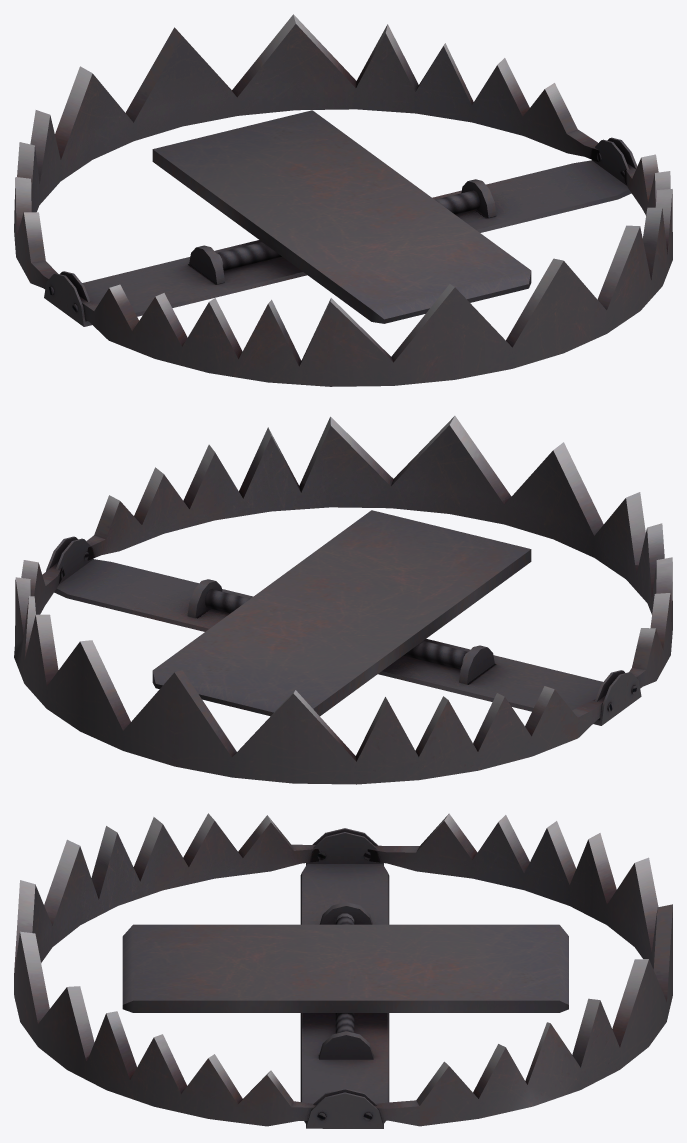
3 renders of one model, top to bottom at view 1: azimuth 30°, elevation 25°; view 2: azimuth 150°, elevation 25°; view 3: azimuth 270°, elevation 25°, orthographic. The views are drawn at different scales.
Parts seen in each view (by area): view 1: trap; view 2: trap; view 3: trap.
Boxes of the visible parts, bbox=[...] form: trap: bbox=[14, 14, 672, 386]; trap: bbox=[14, 416, 672, 784]; trap: bbox=[14, 813, 672, 1128].
Size of the model in its own units: 6700 by 1078 by 6999.
Materials: 1 (1 with a texture image).
